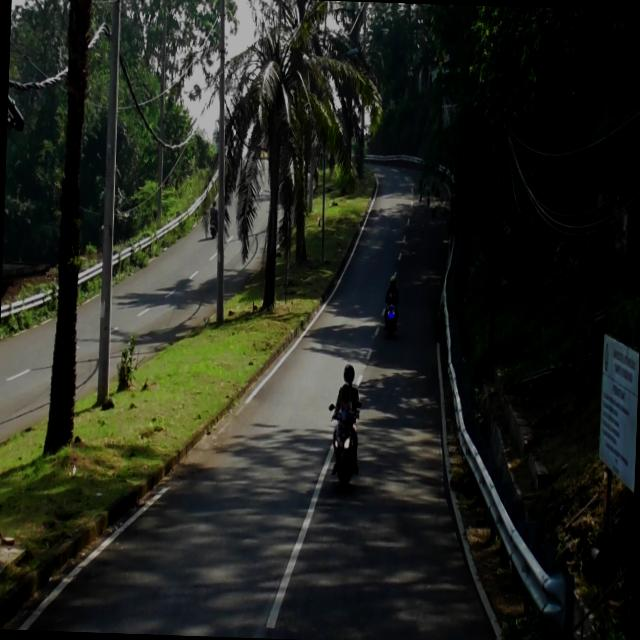motorcycle: (326, 400, 360, 491), (383, 296, 400, 339)
person: (330, 362, 363, 473), (338, 383, 354, 418), (384, 275, 401, 305)
rider_region: (326, 360, 364, 497), (383, 272, 402, 338)
